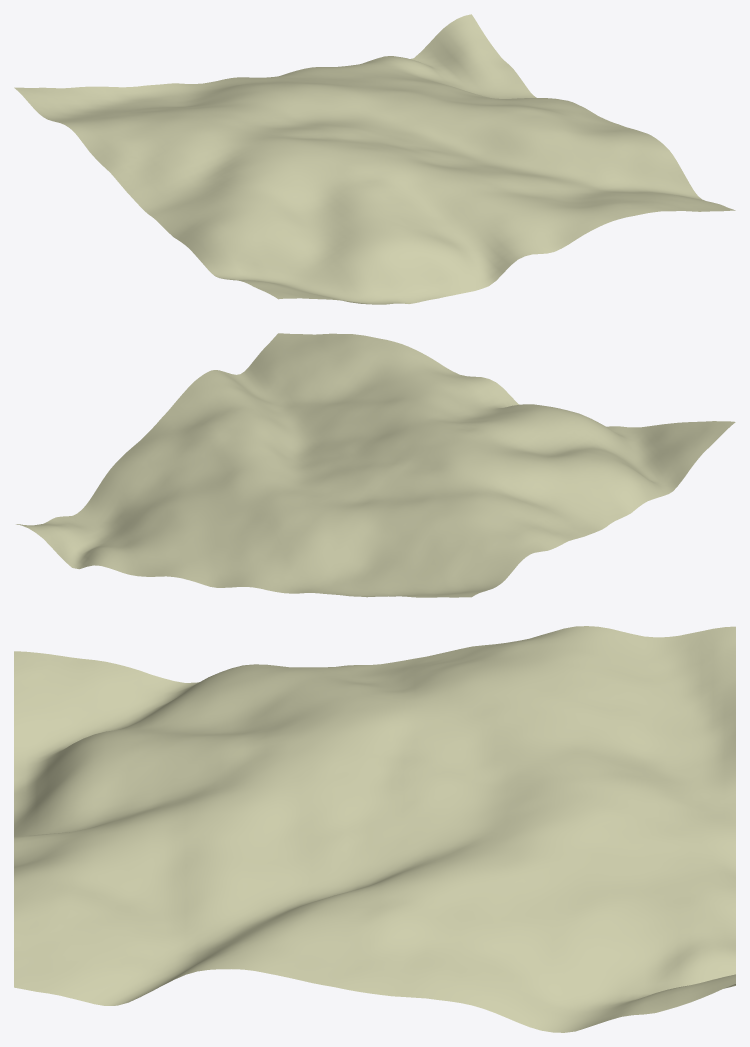
File: Elements_Topography.glb
3 views of the same model, one above another, from view 1: azimuth 30°, elevation 25°; view 2: azimuth 150°, elevation 25°; view 3: azimuth 270°, elevation 25° (orthographic). The views are drawn at different scales.
Parts seen in each view (by area): view 1: 48fd739e-b469-471c-9813-d4da8ee790ce_mesh; view 2: 48fd739e-b469-471c-9813-d4da8ee790ce_mesh; view 3: 48fd739e-b469-471c-9813-d4da8ee790ce_mesh.
Boxes of the visible parts, bbox=[...] form: 48fd739e-b469-471c-9813-d4da8ee790ce_mesh: bbox=[14, 14, 735, 304]; 48fd739e-b469-471c-9813-d4da8ee790ce_mesh: bbox=[16, 333, 735, 597]; 48fd739e-b469-471c-9813-d4da8ee790ce_mesh: bbox=[14, 626, 735, 1032].
Size of the model in its own units: 865 by 145 by 865.
